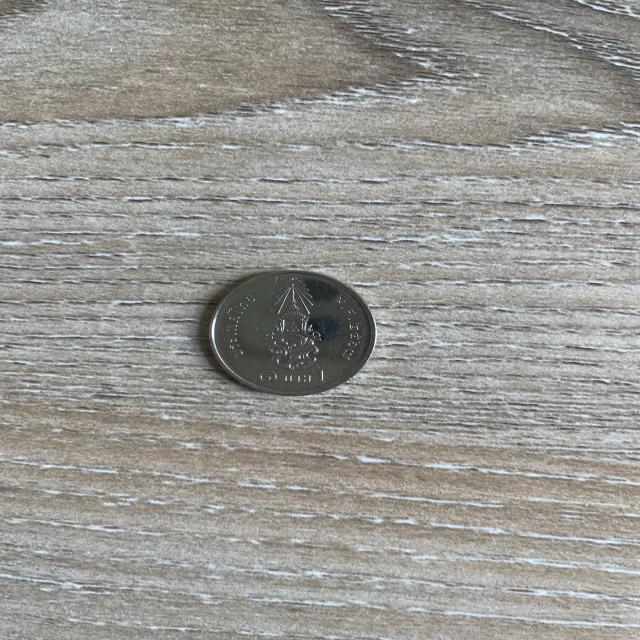1 Bath: (177, 265, 407, 410)
